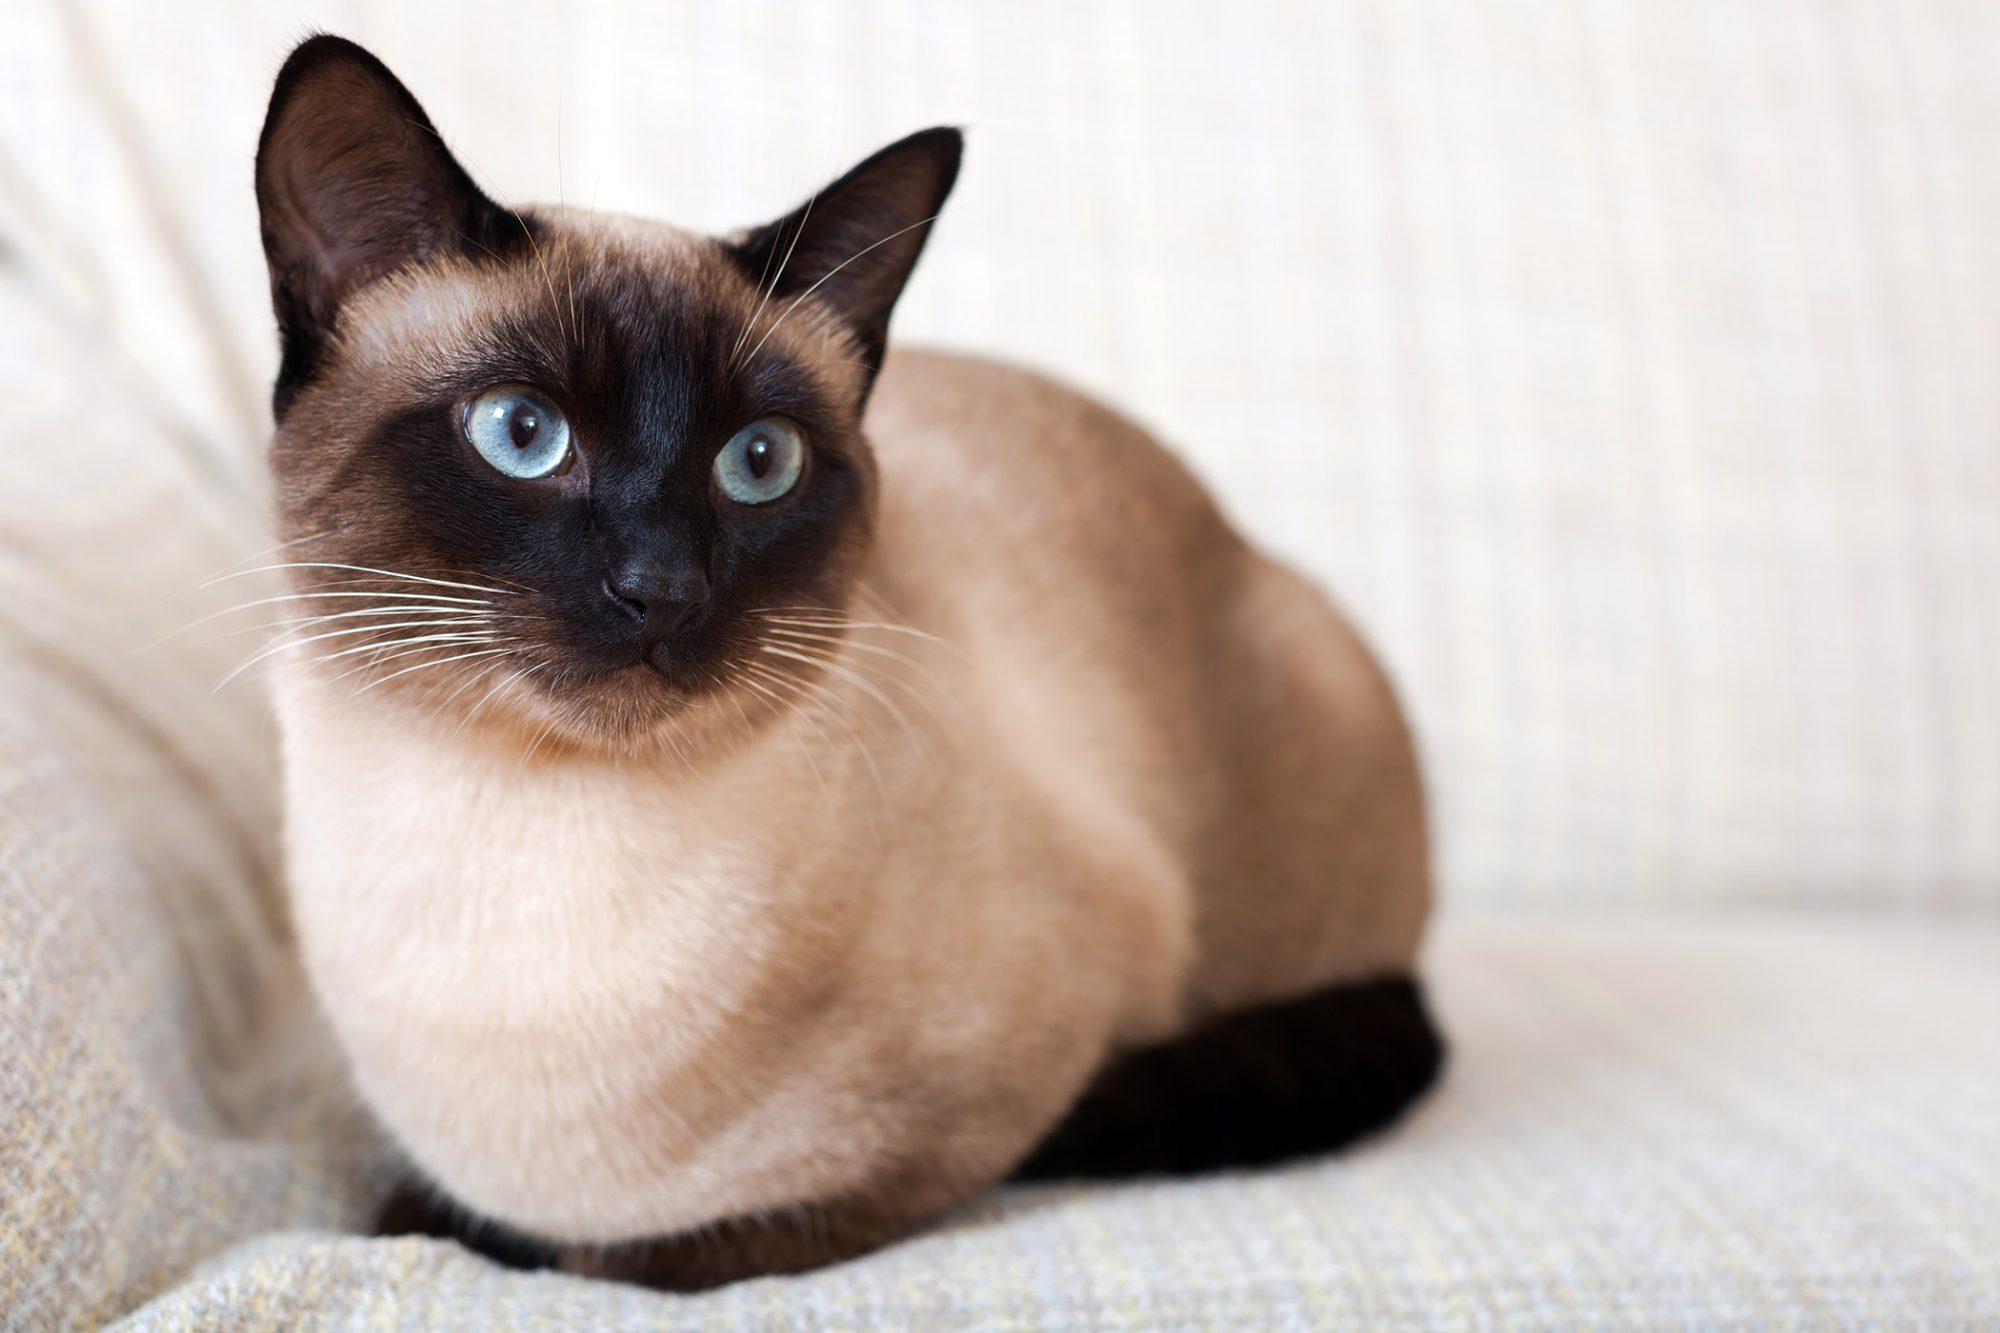siamese: (247, 28, 972, 827)
